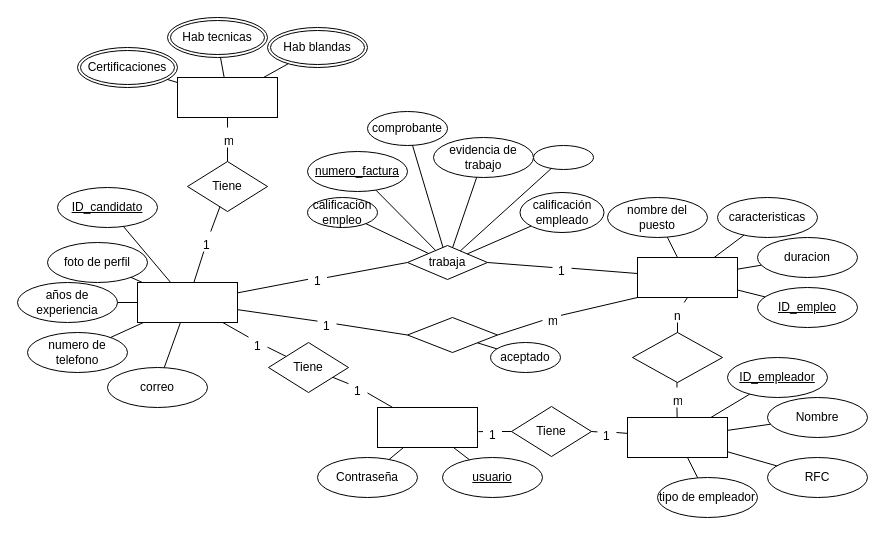
The diagram is 885 pixels wide and 535 high, and some of its shapes have lost their labels. Here are the shapes that lost their labels. From the top down, the centre of each, then its label:
At pixel 227 97: "habilidades".
At pixel 563 157: "cantidad".
At pixel 687 277: "Empleo".
At pixel 187 302: "Candidato".
At pixel 452 334: "aplica".
At pixel 677 357: "Ofrece".
At pixel 427 427: "Accesos".
At pixel 677 437: "Empleador".
